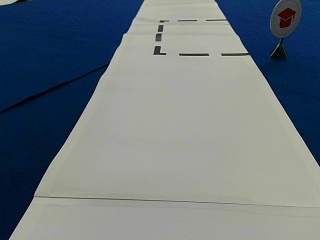school: (269, 1, 300, 36)
